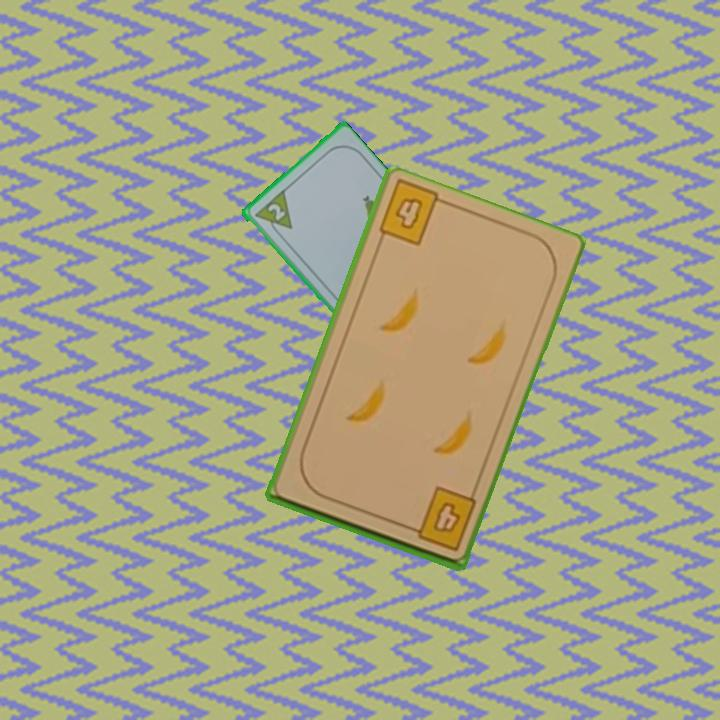2p: (264, 200, 288, 224)
4b: (402, 483, 480, 554), (391, 193, 426, 233)
